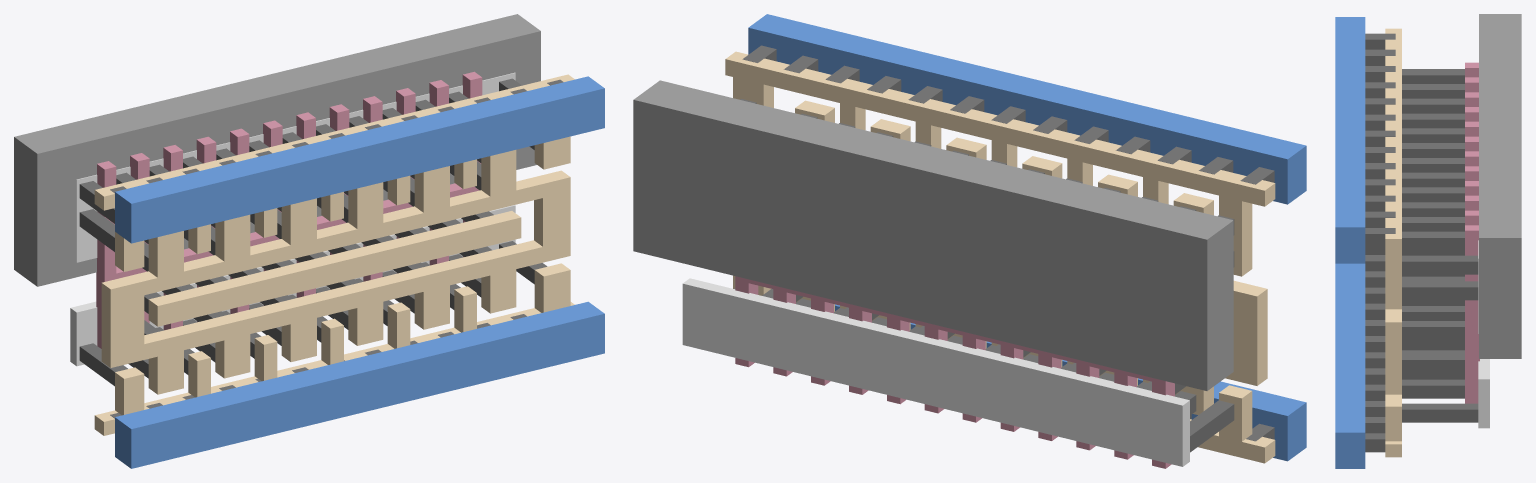
File: sky130_fd_sc_hd__inv_12.gds.gltf
3 views of the same model, side by side, from view 1: azimuth 30°, elevation 25°; view 2: azimuth 150°, elevation 25°; view 3: azimuth 270°, elevation 25° (orthographic). The views are drawn at different scales.
Parts seen in each view (by area): view 1: sky130_fd_sc_hd__inv_12_li1, sky130_fd_sc_hd__inv_12_met1, sky130_fd_sc_hd__inv_12_nwell, sky130_fd_sc_hd__inv_12_licon, sky130_fd_sc_hd__inv_12_poly, sky130_fd_sc_hd__inv_12_diff, sky130_fd_sc_hd__inv_12_mcon; view 2: sky130_fd_sc_hd__inv_12_nwell, sky130_fd_sc_hd__inv_12_diff, sky130_fd_sc_hd__inv_12_li1, sky130_fd_sc_hd__inv_12_met1, sky130_fd_sc_hd__inv_12_poly, sky130_fd_sc_hd__inv_12_mcon, sky130_fd_sc_hd__inv_12_licon; view 3: sky130_fd_sc_hd__inv_12_licon, sky130_fd_sc_hd__inv_12_nwell, sky130_fd_sc_hd__inv_12_met1, sky130_fd_sc_hd__inv_12_mcon, sky130_fd_sc_hd__inv_12_li1, sky130_fd_sc_hd__inv_12_poly, sky130_fd_sc_hd__inv_12_diff.
Part boxes in pixels (<box>): sky130_fd_sc_hd__inv_12_li1: <box>94,74,574,435</box>; sky130_fd_sc_hd__inv_12_met1: <box>115,76,604,468</box>; sky130_fd_sc_hd__inv_12_nwell: <box>14,14,540,286</box>; sky130_fd_sc_hd__inv_12_licon: <box>79,78,547,386</box>; sky130_fd_sc_hd__inv_12_poly: <box>96,71,482,348</box>; sky130_fd_sc_hd__inv_12_diff: <box>70,72,515,366</box>; sky130_fd_sc_hd__inv_12_mcon: <box>110,79,563,418</box>; sky130_fd_sc_hd__inv_12_nwell: <box>633,80,1233,390</box>; sky130_fd_sc_hd__inv_12_diff: <box>682,278,1189,466</box>; sky130_fd_sc_hd__inv_12_li1: <box>725,51,1275,463</box>; sky130_fd_sc_hd__inv_12_met1: <box>748,14,1306,461</box>; sky130_fd_sc_hd__inv_12_poly: <box>735,276,1174,468</box>; sky130_fd_sc_hd__inv_12_mcon: <box>742,45,1274,441</box>; sky130_fd_sc_hd__inv_12_licon: <box>734,99,1234,452</box>; sky130_fd_sc_hd__inv_12_licon: <box>1402,69,1478,422</box>; sky130_fd_sc_hd__inv_12_nwell: <box>1479,14,1521,358</box>; sky130_fd_sc_hd__inv_12_met1: <box>1335,17,1365,468</box>; sky130_fd_sc_hd__inv_12_mcon: <box>1365,33,1395,452</box>; sky130_fd_sc_hd__inv_12_li1: <box>1385,28,1401,457</box>; sky130_fd_sc_hd__inv_12_poly: <box>1465,62,1479,403</box>; sky130_fd_sc_hd__inv_12_diff: <box>1478,240,1489,428</box>.
Bounding box in the file's own units: 6.36 × 3.2 × 2.24.
